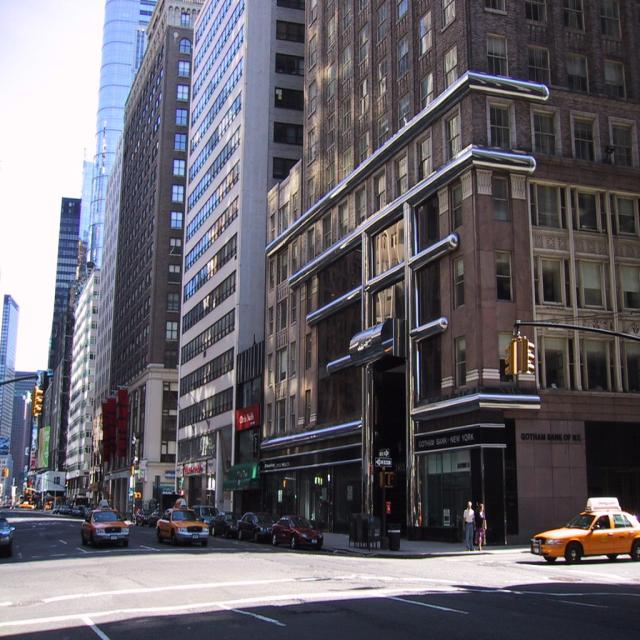car: (79, 506, 130, 543)
